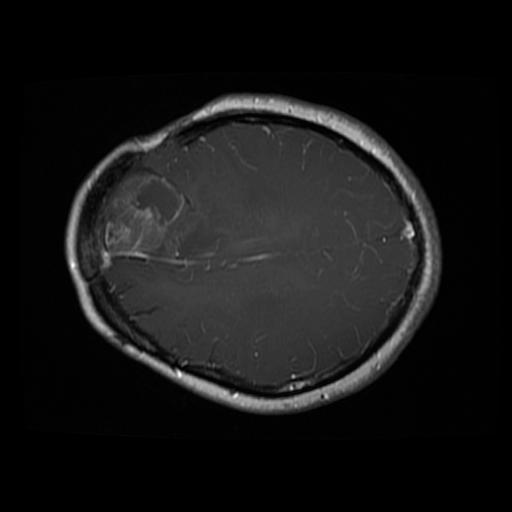glioma: (93, 167, 217, 285)
